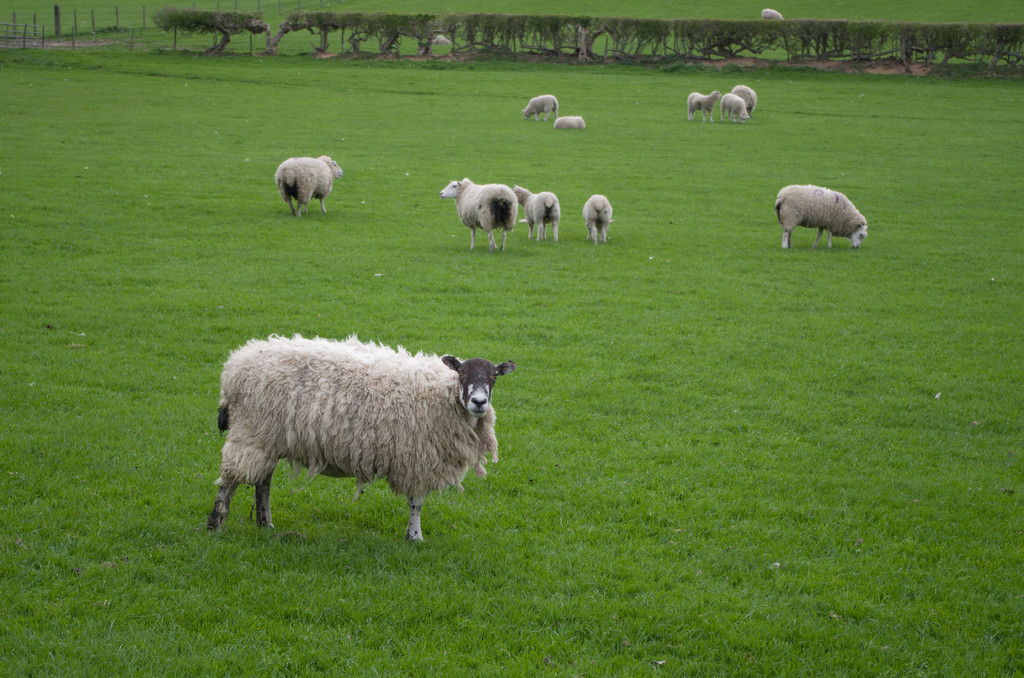sheep: (202, 326, 515, 545), (773, 183, 871, 249), (439, 177, 520, 249), (277, 154, 341, 217), (583, 195, 609, 240), (687, 92, 721, 119), (520, 97, 558, 121), (718, 92, 747, 122), (557, 115, 583, 131)
